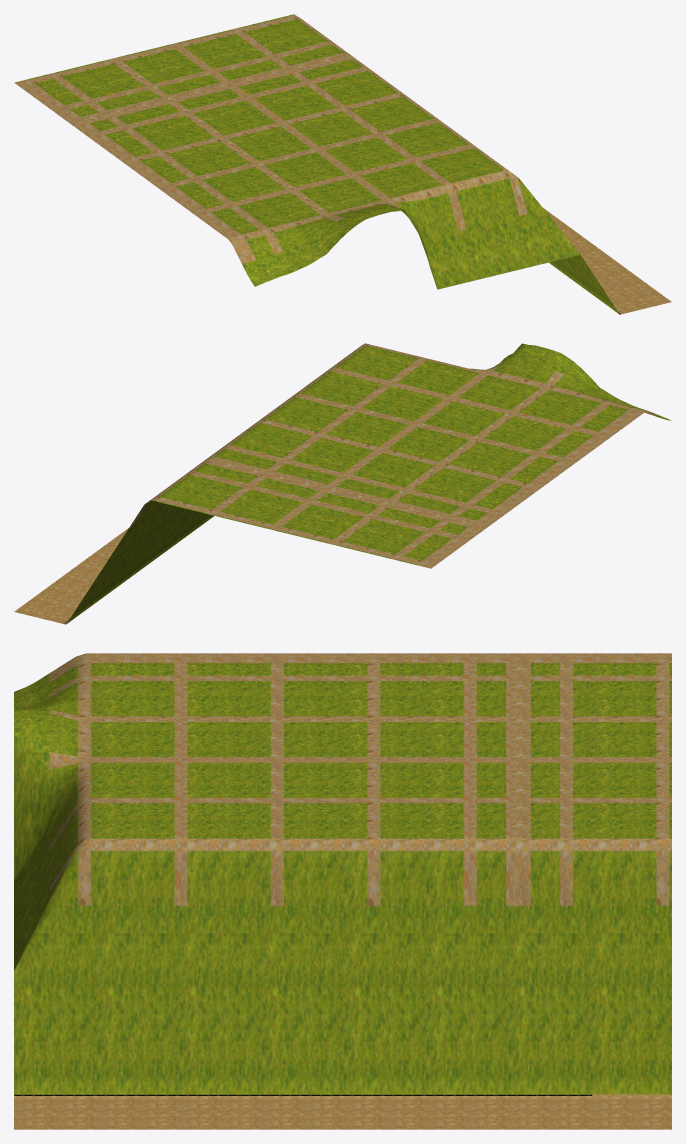
Rendered from terrain.glb.
3 renders of one model, top to bottom at view 1: azimuth 30°, elevation 25°; view 2: azimuth 150°, elevation 25°; view 3: azimuth 270°, elevation 25°, orthographic. The views are drawn at different scales.
Visible parts, largest first — view 1: terrain_1_4; view 2: terrain_1_4; view 3: terrain_1_4.
Boxes of the visible parts, <box> form: terrain_1_4: <box>14,14,671,314</box>; terrain_1_4: <box>14,343,671,624</box>; terrain_1_4: <box>14,653,671,1129</box>.
Size of the model in its own units: 512 by 186 by 512.
1 material, 1 textured.
